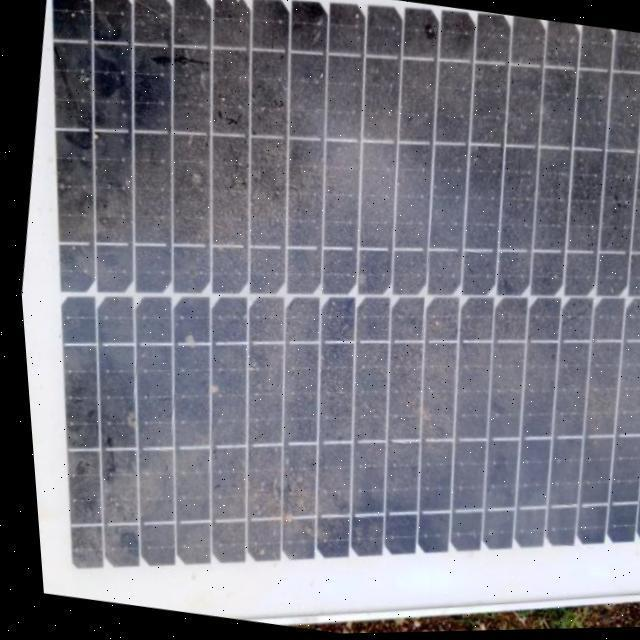Anomaly Solar Panel: (0, 0, 640, 640)
Surface Contaminant: (33, 0, 640, 567)
